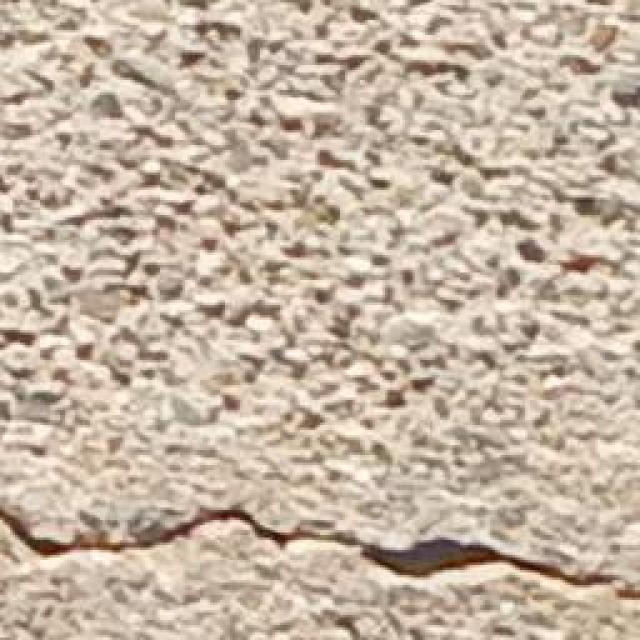horizontal crack: (10, 484, 635, 637)
